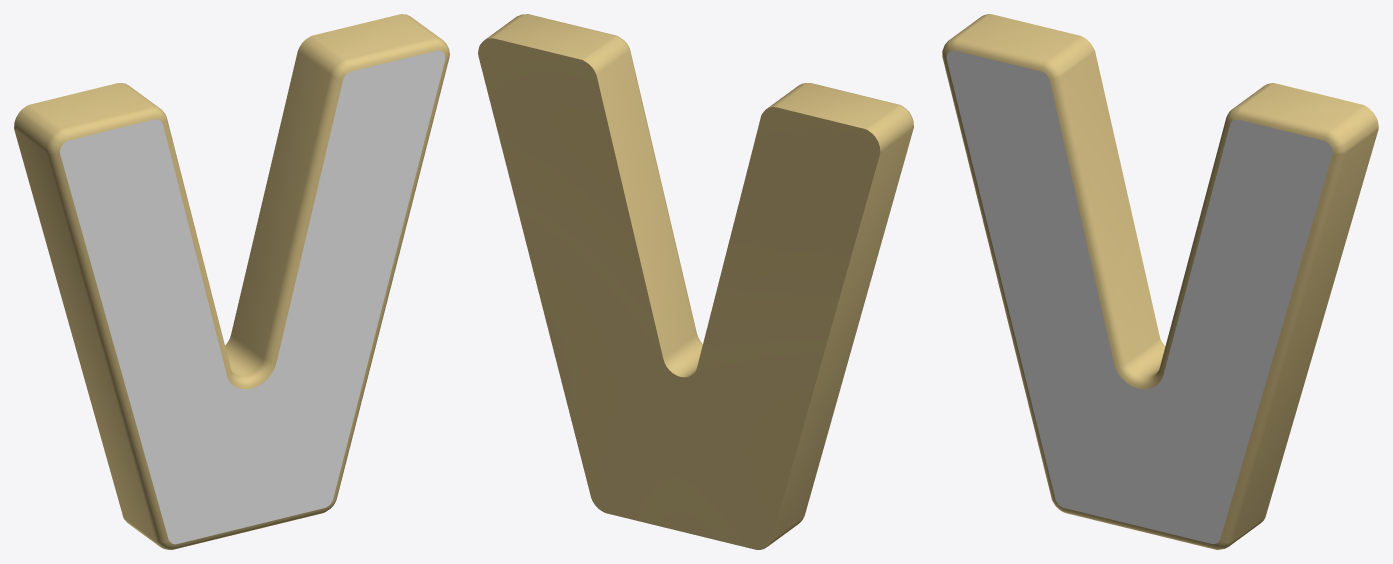
File: LettersLightUp02_V.FBX
3 renders of one model, left to right at view 1: azimuth 30°, elevation 25°; view 2: azimuth 150°, elevation 25°; view 3: azimuth 330°, elevation 25°, orthographic.
Visible parts, largest first — view 1: LettersLightUp02_V; view 2: LettersLightUp02_V; view 3: LettersLightUp02_V.
Part boxes in pixels (box(x1,y1,x2,y2)): LettersLightUp02_V: box(14, 14, 449, 549); LettersLightUp02_V: box(478, 14, 913, 549); LettersLightUp02_V: box(942, 14, 1378, 549).
Size of what is drawn, in the model's own units: 0.5641 by 0.5997 by 0.0912.
